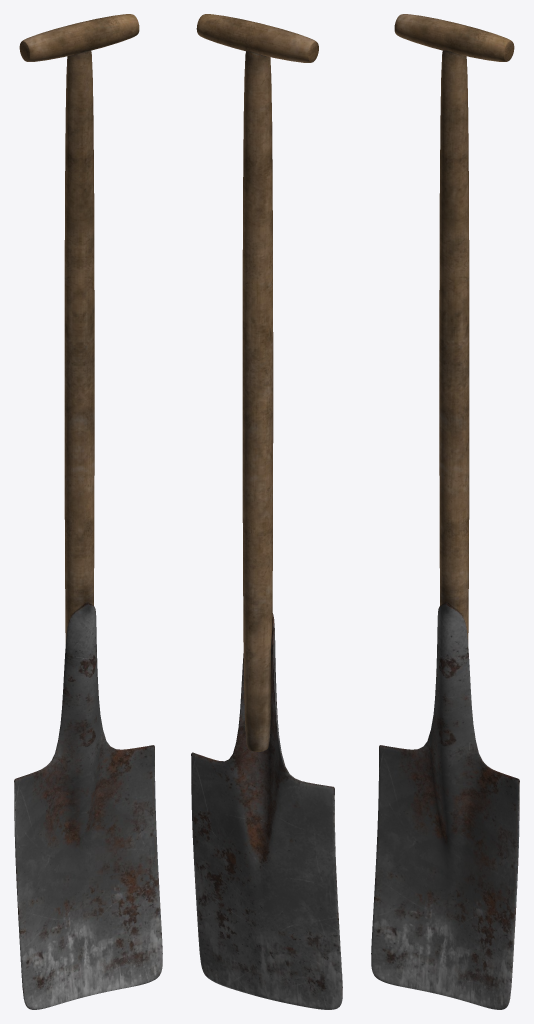
The model's file is prop-spade.glb.
3 views of the same model, side by side, from view 1: azimuth 30°, elevation 25°; view 2: azimuth 150°, elevation 25°; view 3: azimuth 330°, elevation 25° (orthographic). The views are drawn at different scales.
Parts seen in each view (by area): view 1: rusted_spade_01; view 2: rusted_spade_01; view 3: rusted_spade_01.
Part boxes in pixels (box(x1,y1,x2,y2)): rusted_spade_01: box(14, 14, 162, 1009); rusted_spade_01: box(191, 14, 342, 1009); rusted_spade_01: box(371, 14, 519, 1009).
Bounding box in the file's own units: 0.1681 × 1.1 × 0.0456.
1 material, 1 textured.
